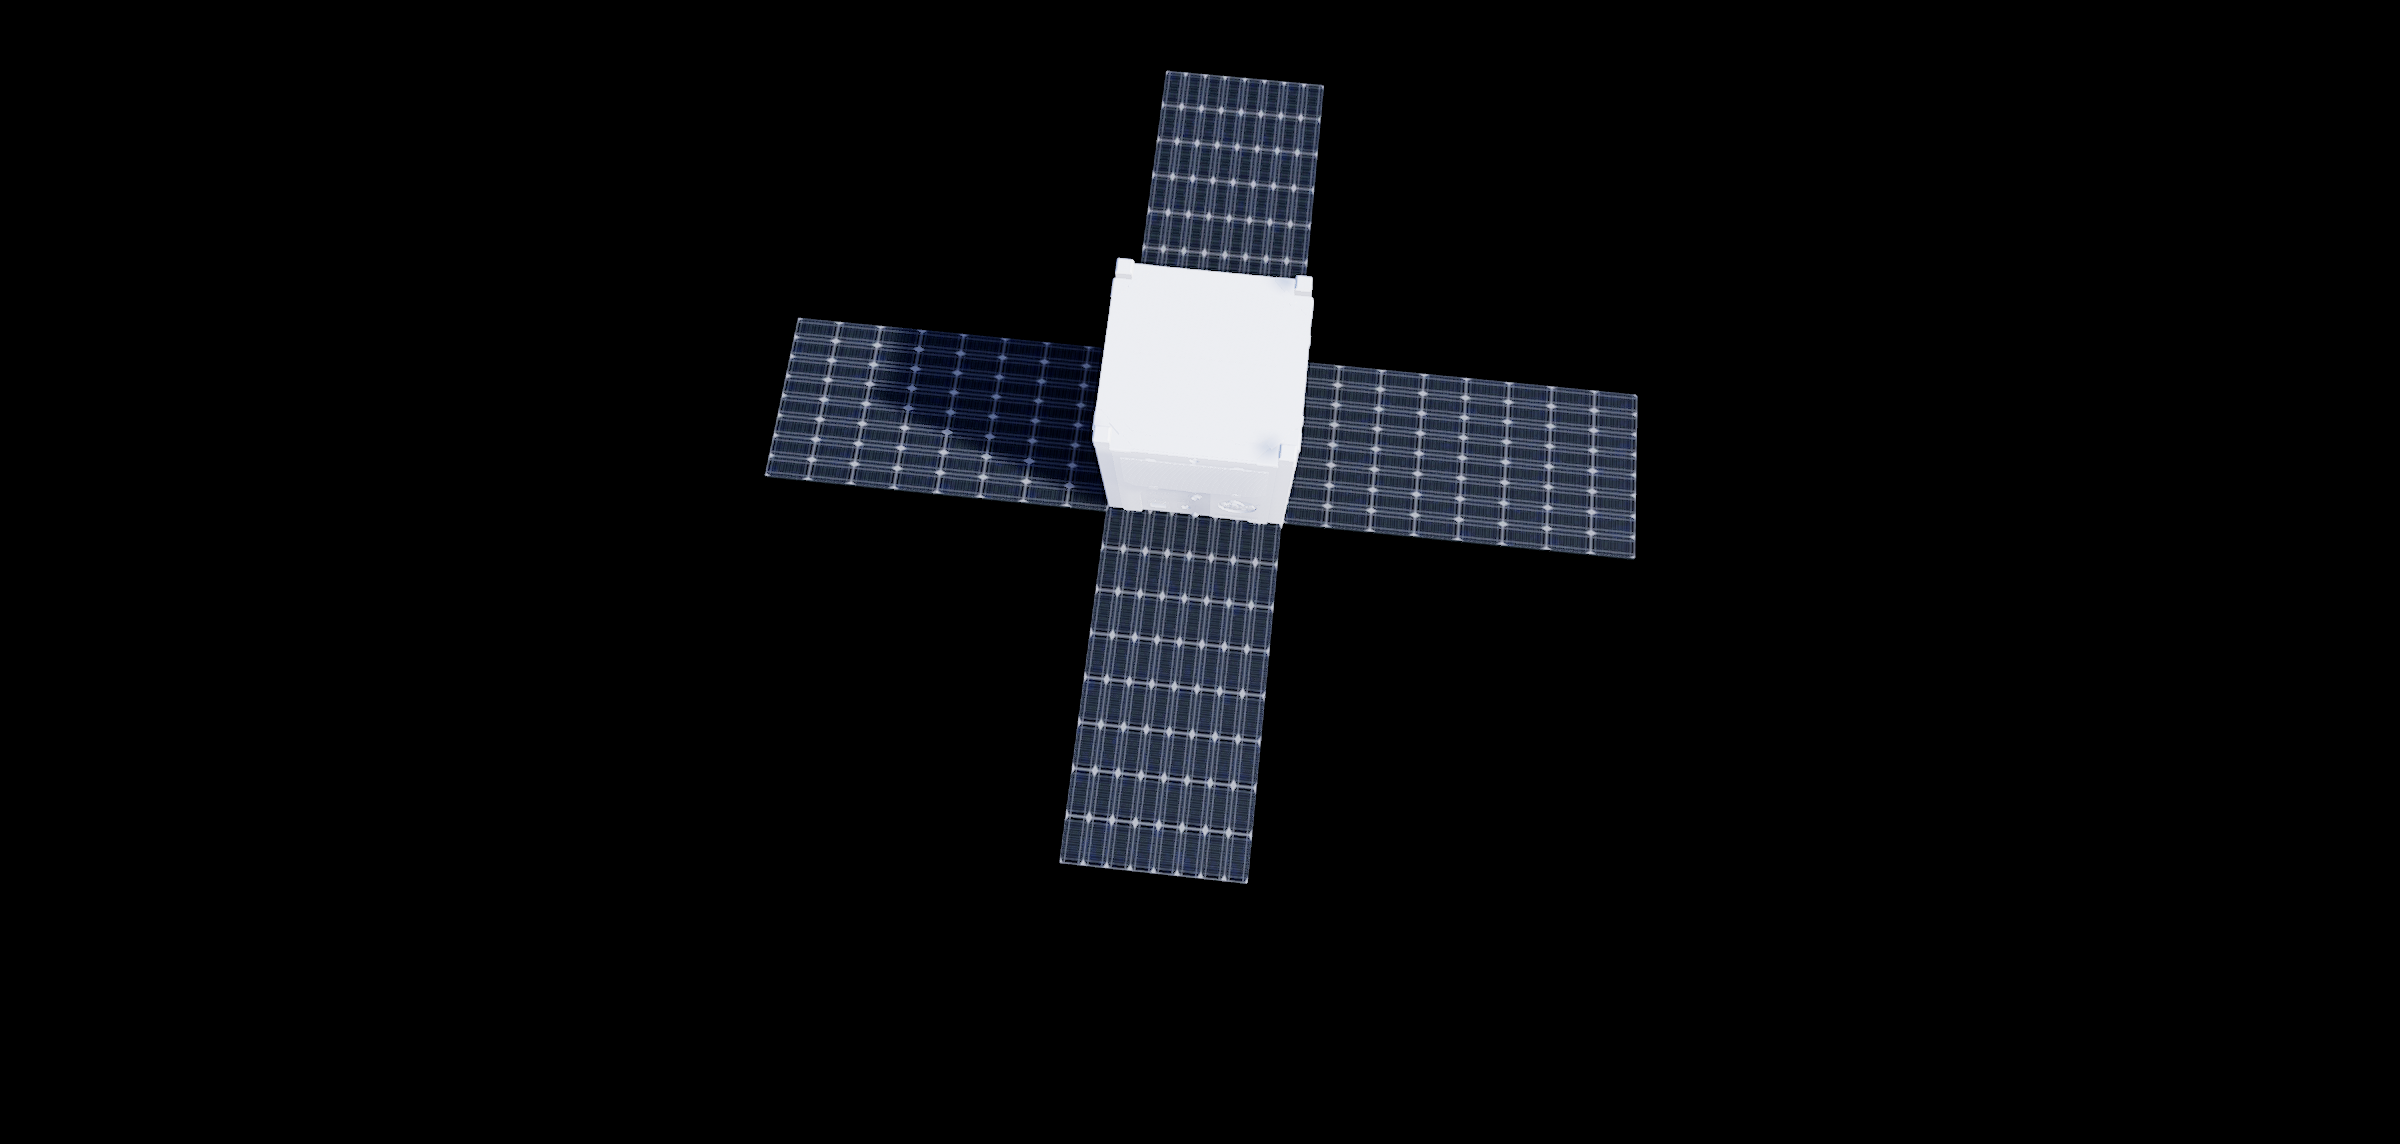satellite: (761, 64, 1674, 855)
